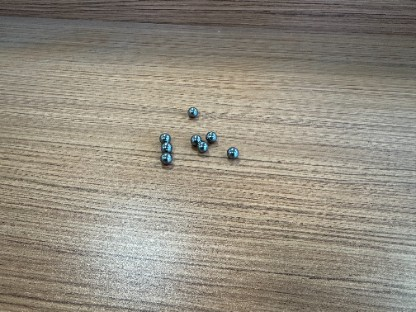ironball: (226, 147, 239, 159), (160, 152, 172, 164), (205, 131, 216, 143), (196, 141, 208, 152), (190, 134, 201, 146), (160, 142, 172, 153), (159, 132, 170, 143), (187, 106, 197, 118)
